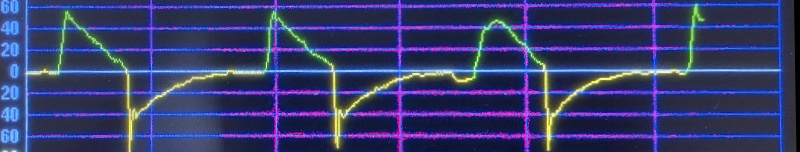normal_flow: (21, 4, 697, 152)
